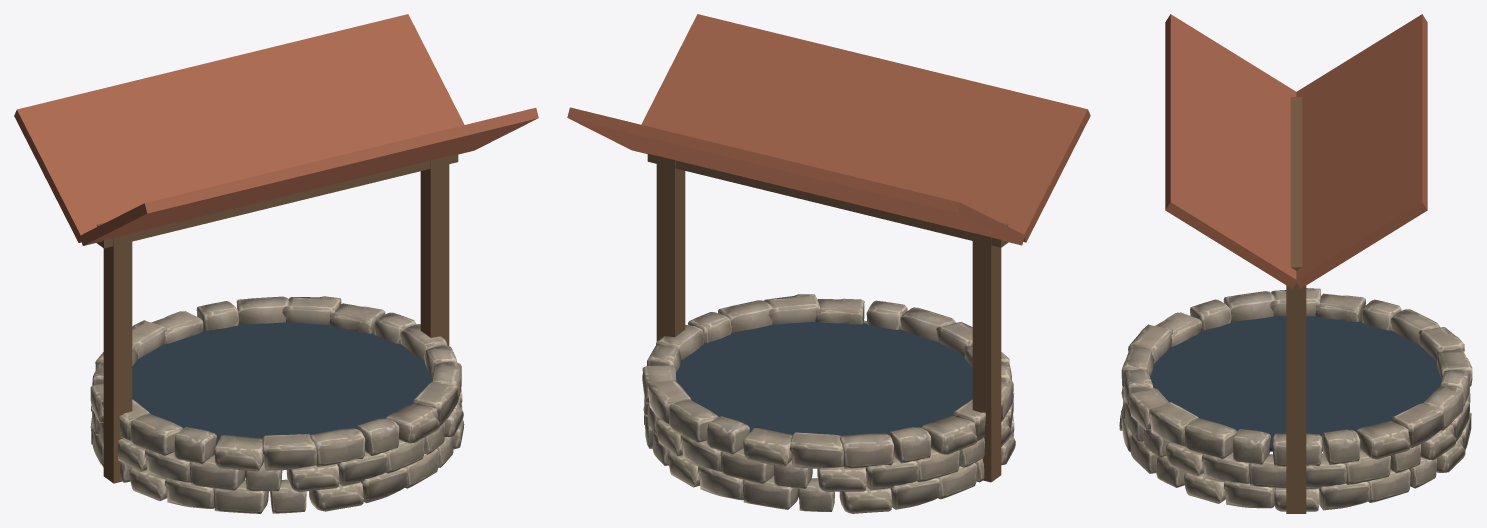
Rendered from well.glb.
3 views of the same model, side by side, from view 1: azimuth 30°, elevation 25°; view 2: azimuth 150°, elevation 25°; view 3: azimuth 270°, elevation 25° (orthographic).
Parts seen in each view (by area): view 1: Prop_Brick1.001; view 2: Prop_Brick1.001; view 3: Prop_Brick1.001.
Part boxes in pixels (bbox=[...]): Prop_Brick1.001: bbox=[14, 14, 538, 513]; Prop_Brick1.001: bbox=[567, 14, 1090, 513]; Prop_Brick1.001: bbox=[1119, 14, 1472, 513].
Size of the model in its own units: 2.48 by 2 by 1.96.
Materials: 7 (4 with a texture image).
